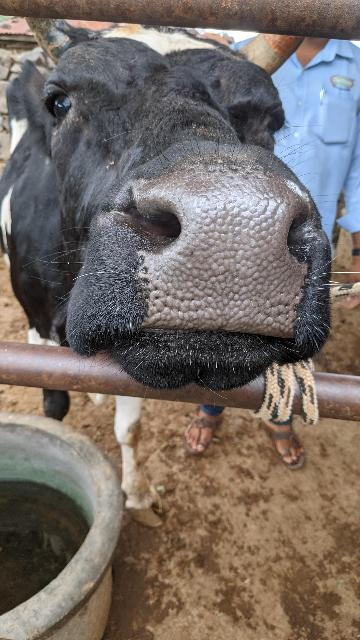Muzzle: (134, 170, 310, 336)
